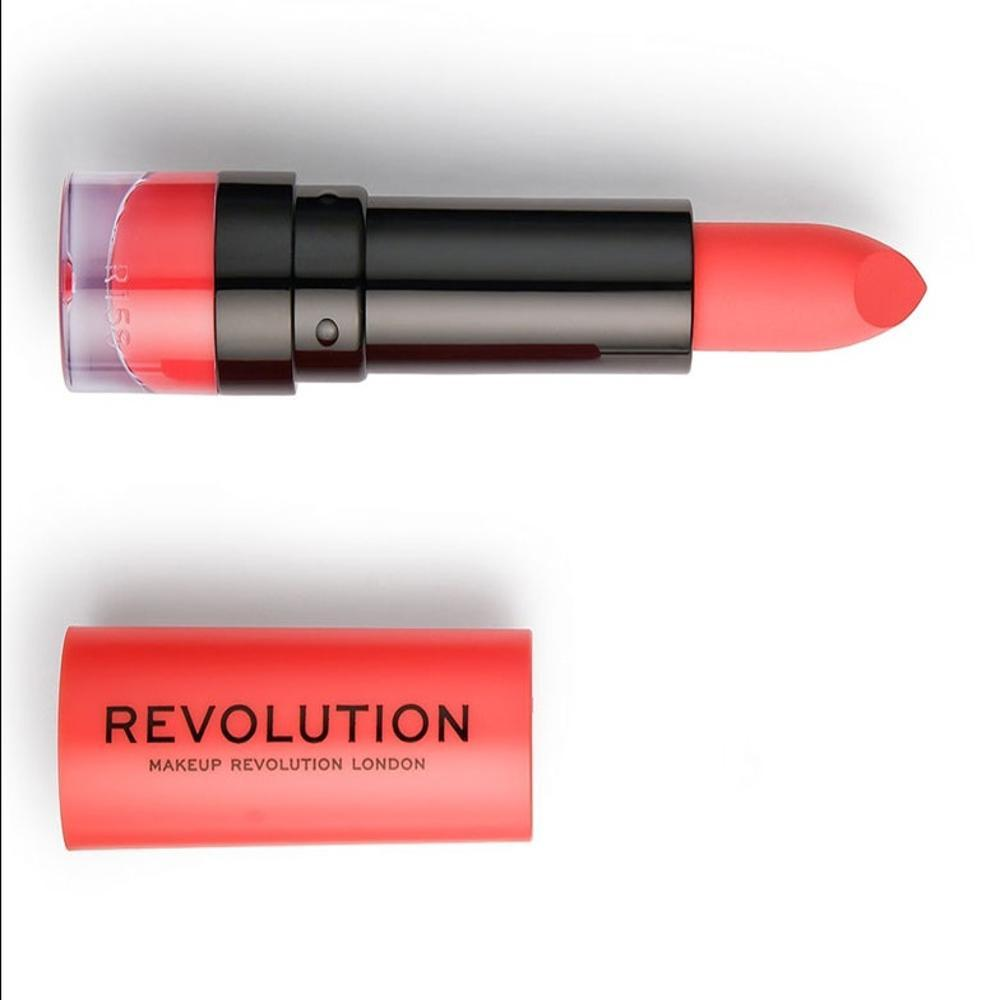lipstick: (48, 134, 954, 442)
